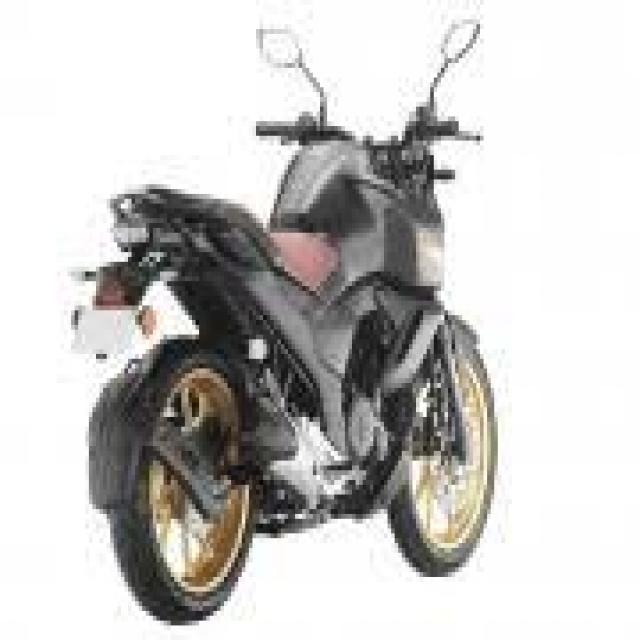Bike: (67, 19, 500, 626)
